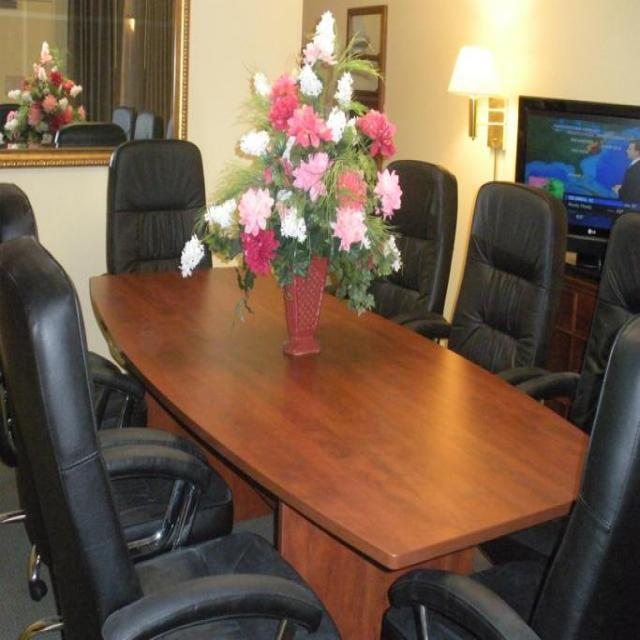chair: (380, 315, 639, 639)
curtains: (66, 0, 175, 138)
plants: (178, 8, 405, 330), (0, 39, 86, 148)
pots: (280, 252, 329, 356)
table: (88, 262, 589, 638)
television: (514, 92, 639, 268)
window: (0, 0, 189, 165)
